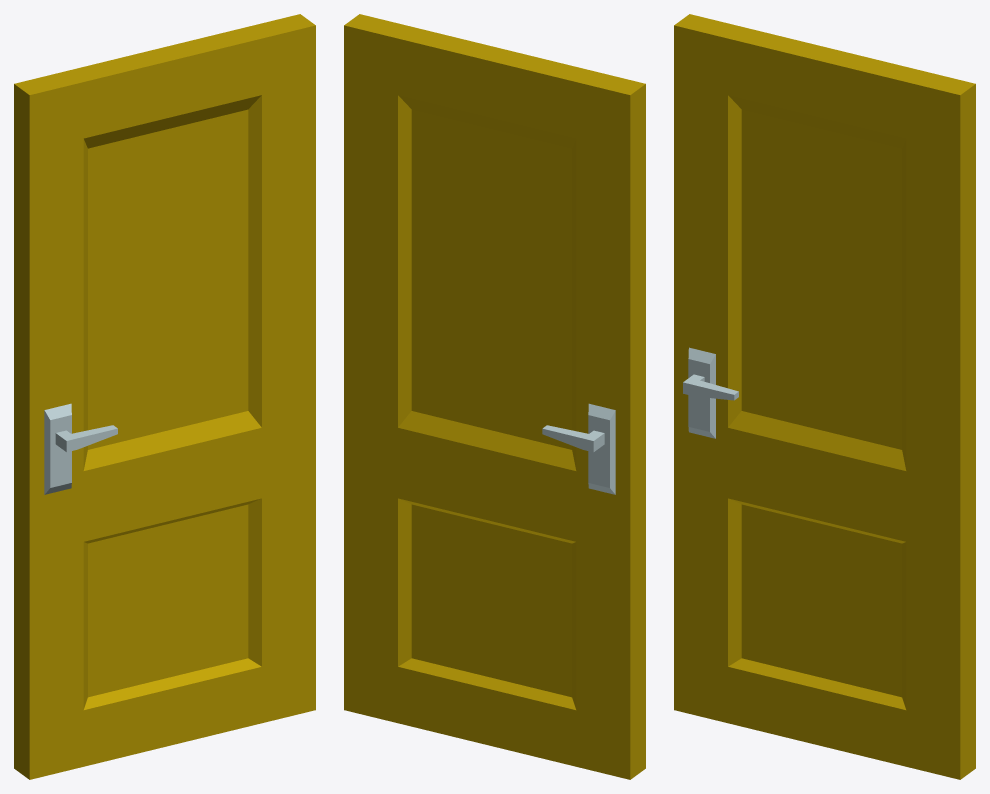
The model's file is door.glb.
The picture shows the model from 3 angles, left to right: view 1: azimuth 30°, elevation 25°; view 2: azimuth 150°, elevation 25°; view 3: azimuth 330°, elevation 25°; orthographic projection.
Parts seen in each view (by area): view 1: door; view 2: door; view 3: door.
Boxes of the visible parts, bbox=[...] form: door: bbox=[14, 14, 315, 779]; door: bbox=[344, 14, 645, 779]; door: bbox=[674, 14, 975, 779].
Size of the model in its own units: 1.62 by 3.71 by 0.4289.
